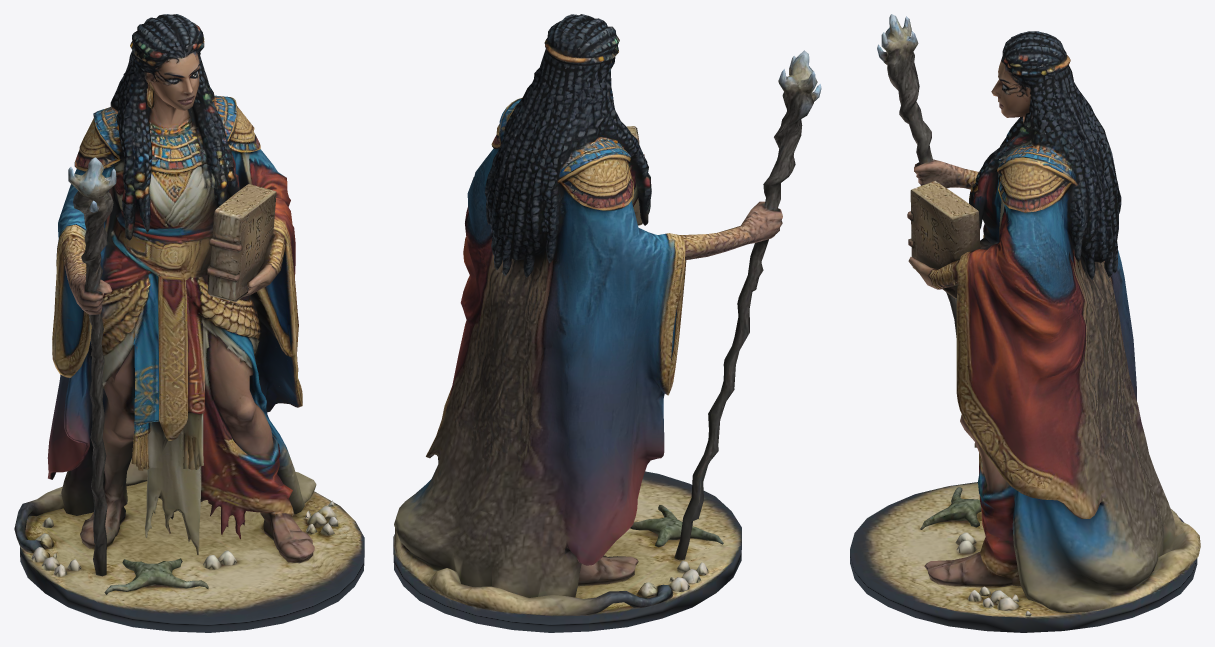
The model's file is mage_def_female.glb.
3 views of the same model, side by side, from view 1: azimuth 30°, elevation 25°; view 2: azimuth 150°, elevation 25°; view 3: azimuth 270°, elevation 25° (orthographic). The views are drawn at different scales.
Parts seen in each view (by area): view 1: tripo_node_401a5719-372c-4f7c-a0fd-d30340e9966e; view 2: tripo_node_401a5719-372c-4f7c-a0fd-d30340e9966e; view 3: tripo_node_401a5719-372c-4f7c-a0fd-d30340e9966e.
Part boxes in pixels (x1,y1,x2,y2): tripo_node_401a5719-372c-4f7c-a0fd-d30340e9966e: (14,14,364,632); tripo_node_401a5719-372c-4f7c-a0fd-d30340e9966e: (393,14,821,632); tripo_node_401a5719-372c-4f7c-a0fd-d30340e9966e: (850,14,1200,632).
Bounding box in the file's own units: 0.6426 × 0.998 × 0.6113.
Materials: 1 (1 with a texture image).
